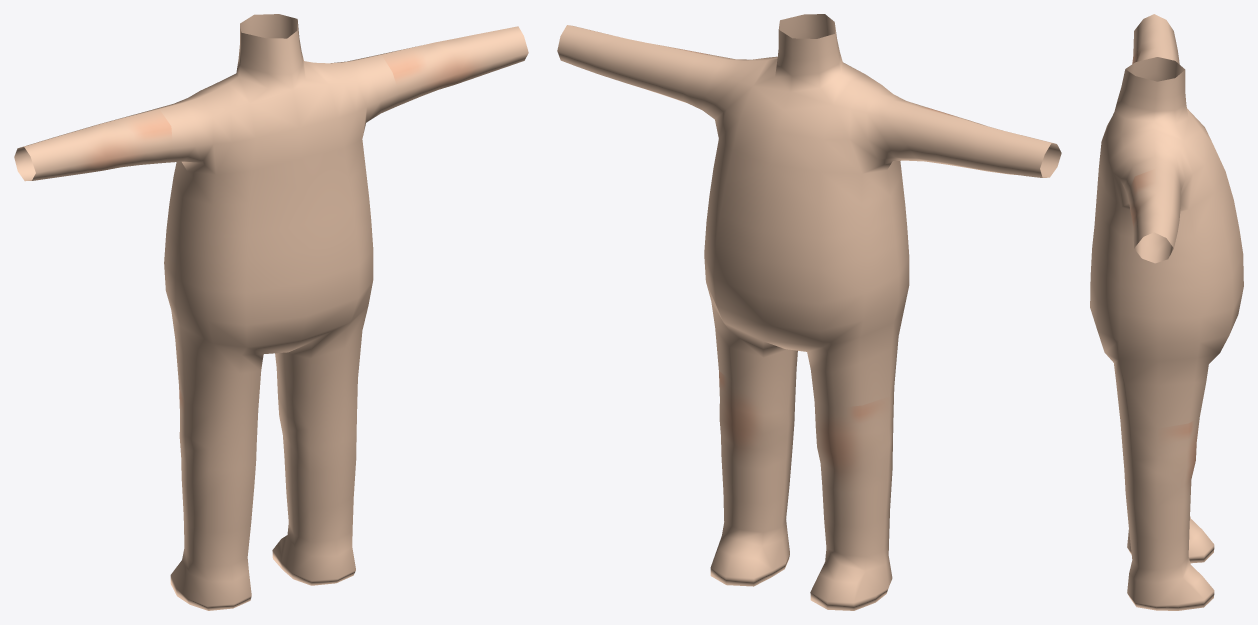
File: Body_1.fbx
The picture shows the model from 3 angles, left to right: view 1: azimuth 30°, elevation 25°; view 2: azimuth 150°, elevation 25°; view 3: azimuth 270°, elevation 25°; orthographic projection. The views are drawn at different scales.
Parts seen in each view (by area): view 1: Body_1; view 2: Body_1; view 3: Body_1.
Part boxes in pixels (x1,y1,x2,y2): Body_1: (14,14,528,610); Body_1: (557,14,1061,610); Body_1: (1090,14,1243,610).
Bounding box in the file's own units: 95.86 × 104 × 28.57.
